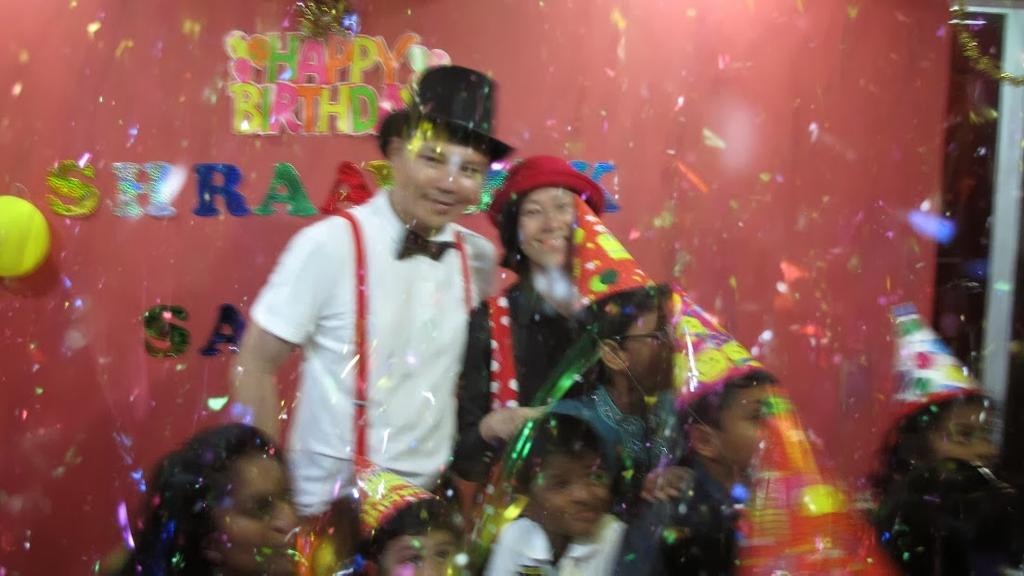face: (214, 452, 296, 573), (395, 117, 485, 227), (535, 445, 605, 530), (718, 386, 780, 474), (516, 186, 579, 265), (937, 399, 990, 483), (622, 305, 674, 385), (380, 522, 455, 576)
